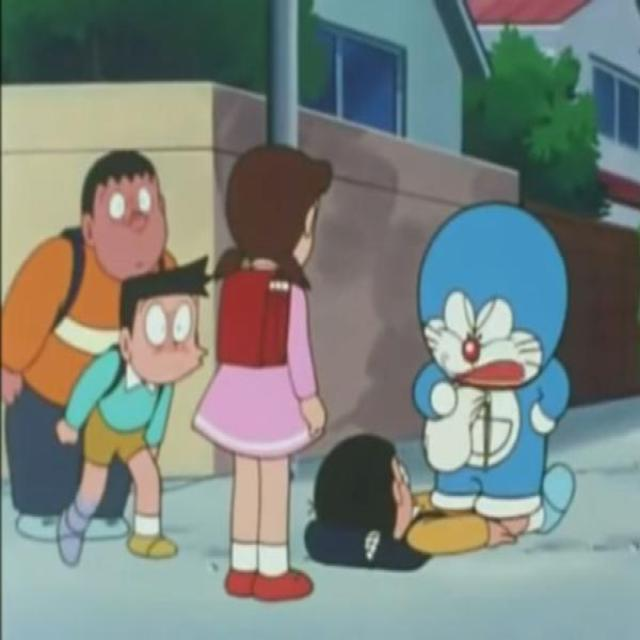doraemon: (415, 194, 570, 401)
jaian: (76, 146, 167, 280)
suneo: (114, 259, 212, 387)
